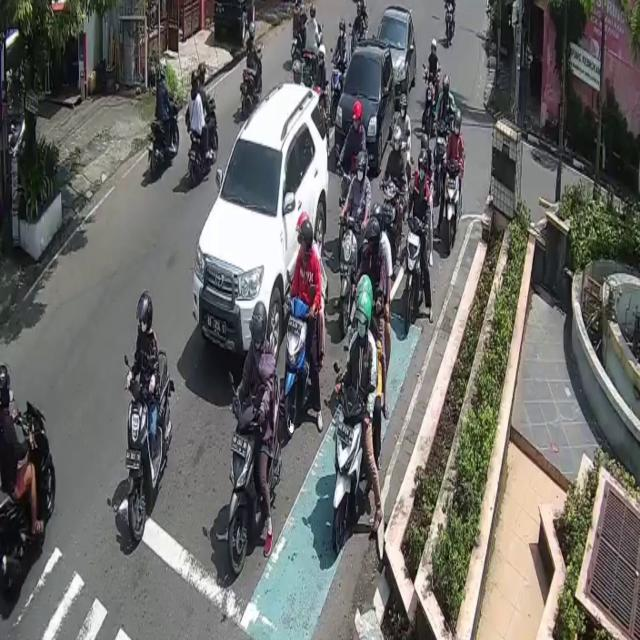bus: (0, 399, 57, 606), (228, 375, 280, 578), (128, 350, 174, 541), (334, 386, 366, 552), (286, 290, 314, 430), (404, 213, 426, 335), (189, 92, 219, 181), (338, 216, 358, 335), (151, 95, 178, 174), (444, 160, 461, 248)
motorcycle: (192, 80, 328, 374), (334, 39, 395, 177), (374, 5, 417, 107)
